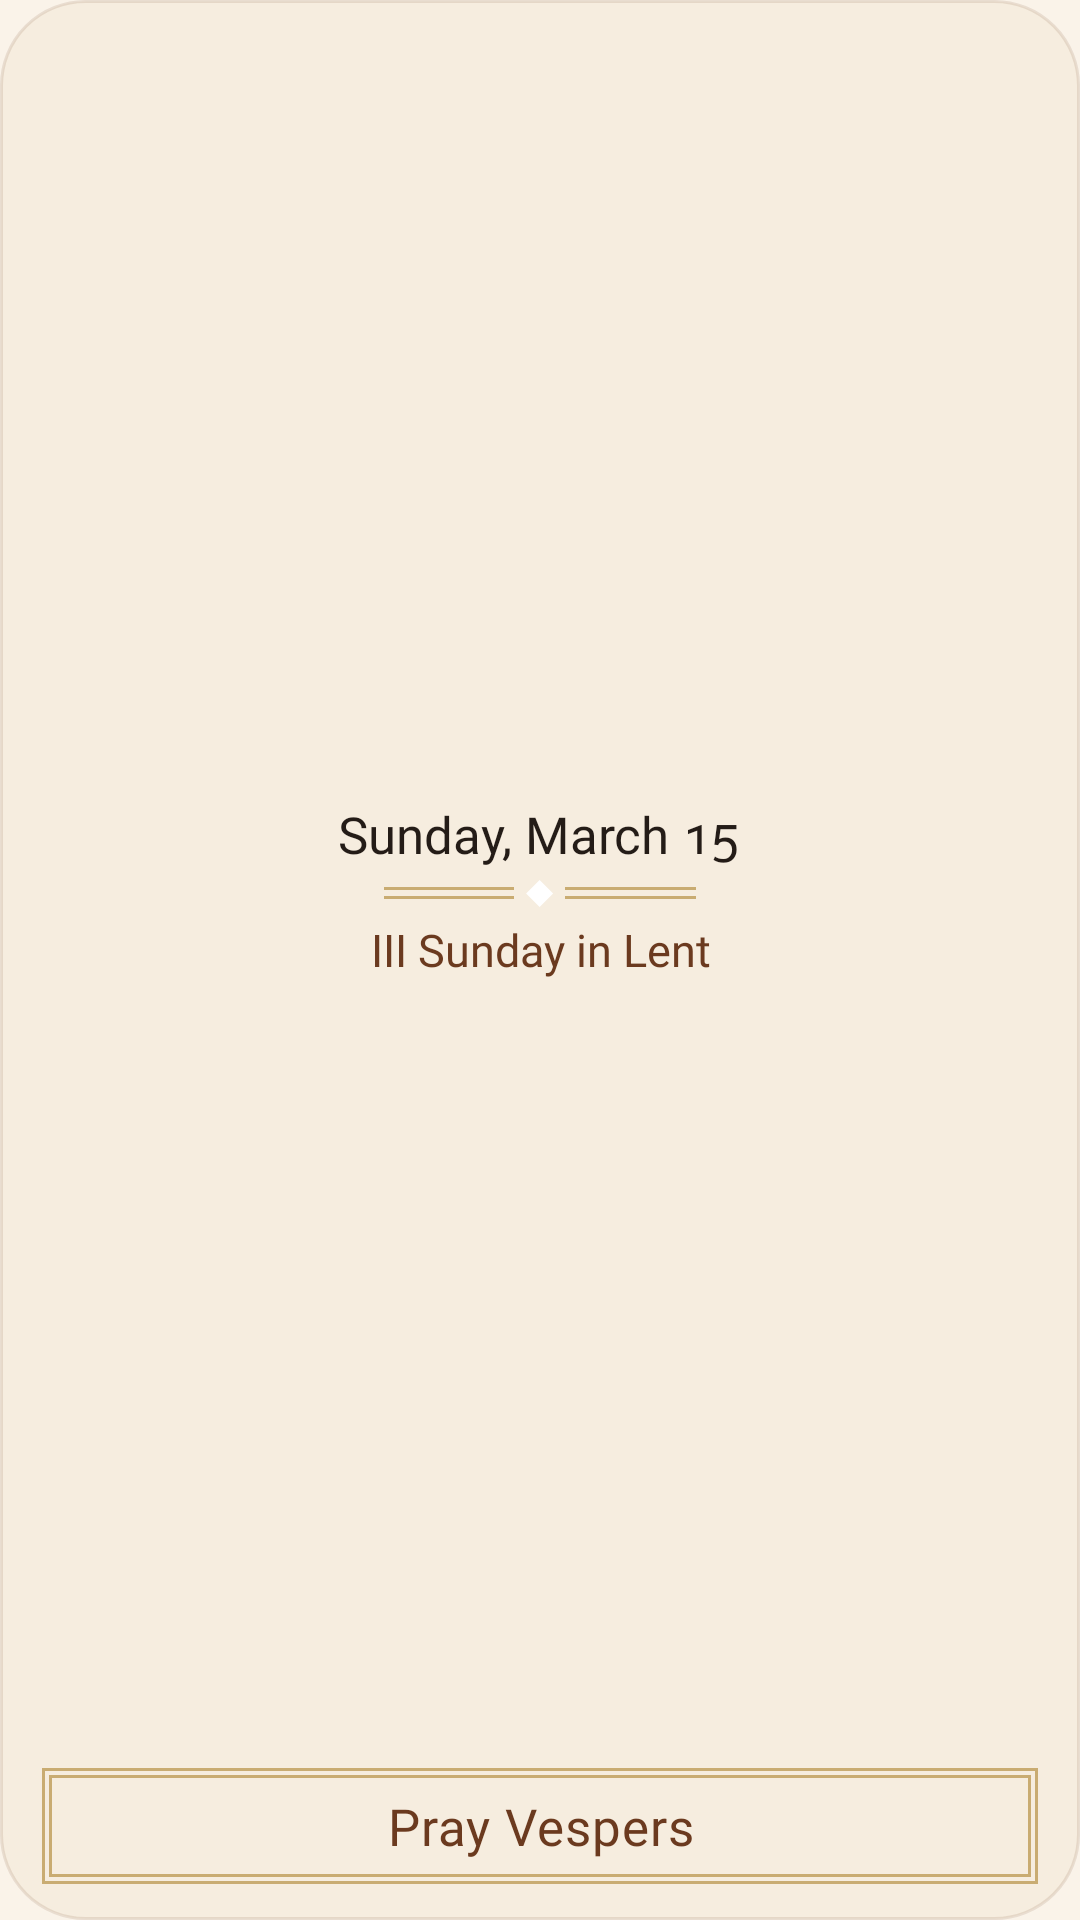

Where to tap for icons on this 1080 x 1920 app screen, as point (x, y):
widget lozenge: point (540, 893)
